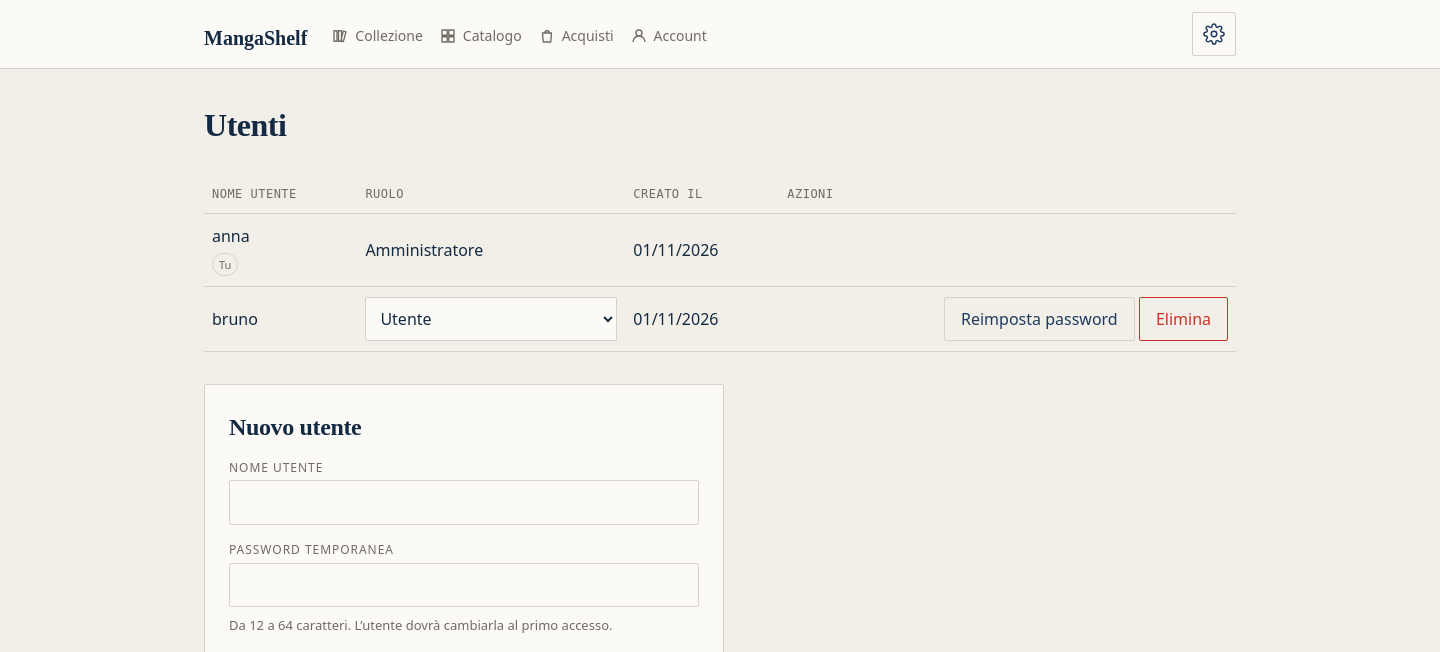
Scenario: users page › resetsPassword
Click the button "Reimposta password" at (1039, 319), box left=944, top=297, right=1135, bottom=341
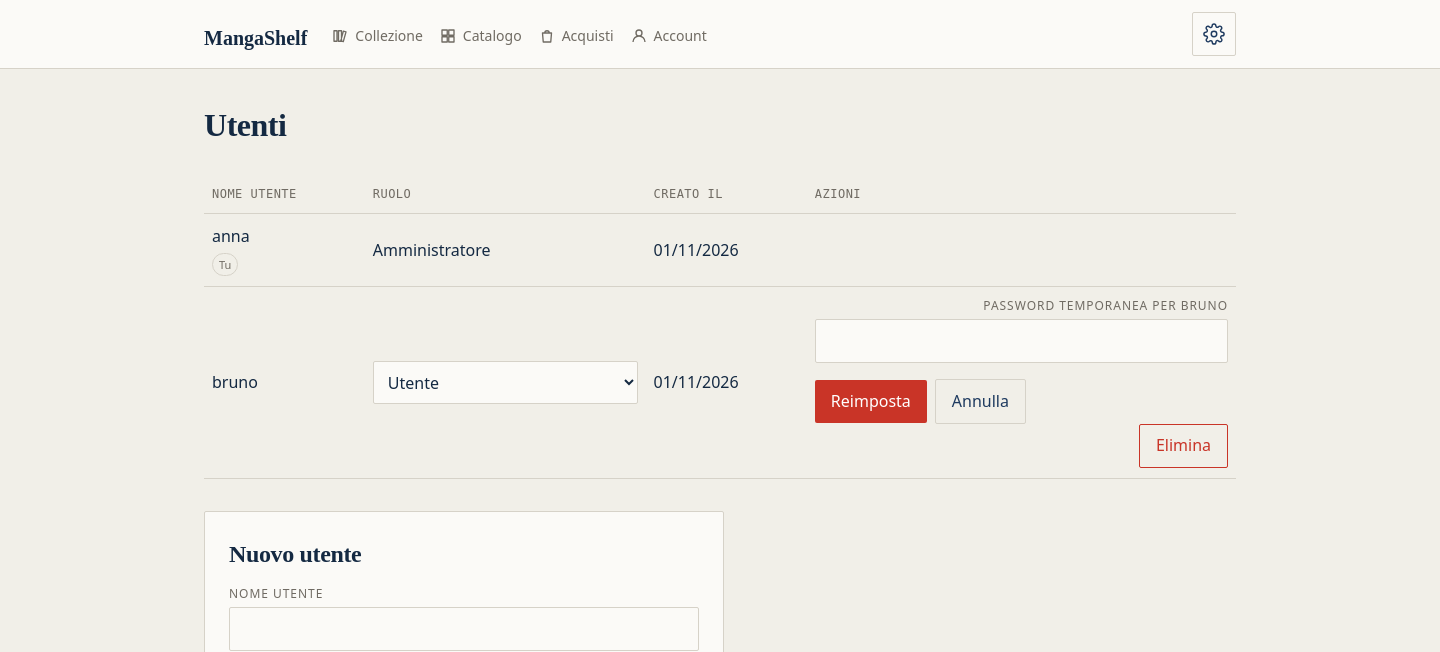
Type "nuova-password-lunga" into the password field labelled "Password temporanea per bruno" at (1021, 341), box left=815, top=319, right=1228, bottom=363
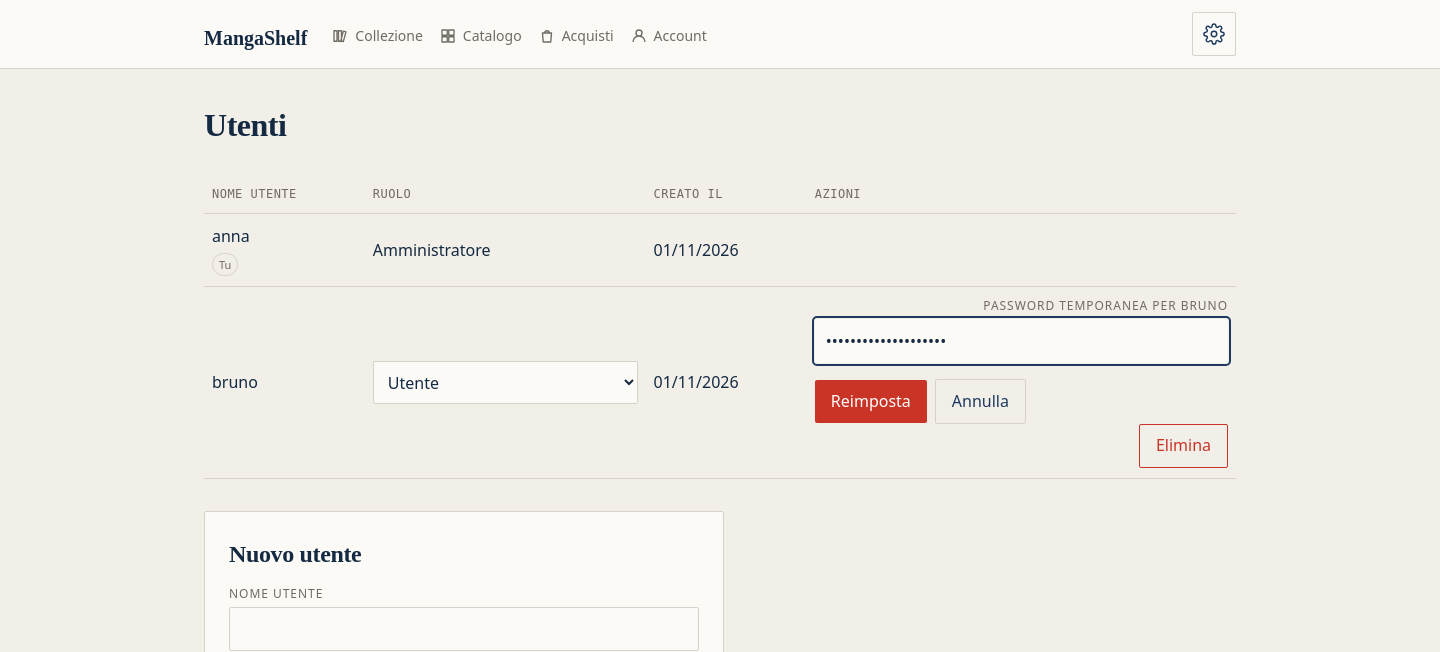
Click the button "Reimposta" at (871, 401), box left=815, top=380, right=927, bottom=423
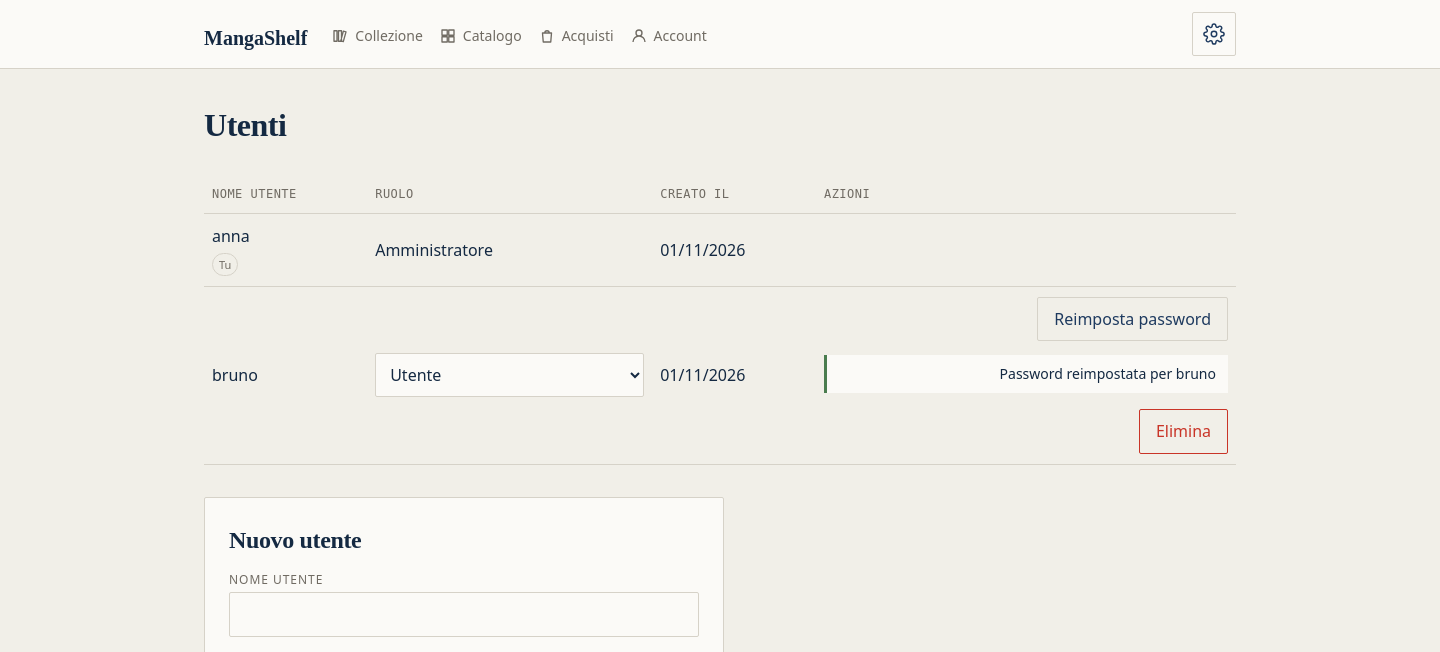
Check: the text "Password reimpostata per bruno" is shown, box left=824, top=355, right=1228, bottom=393
